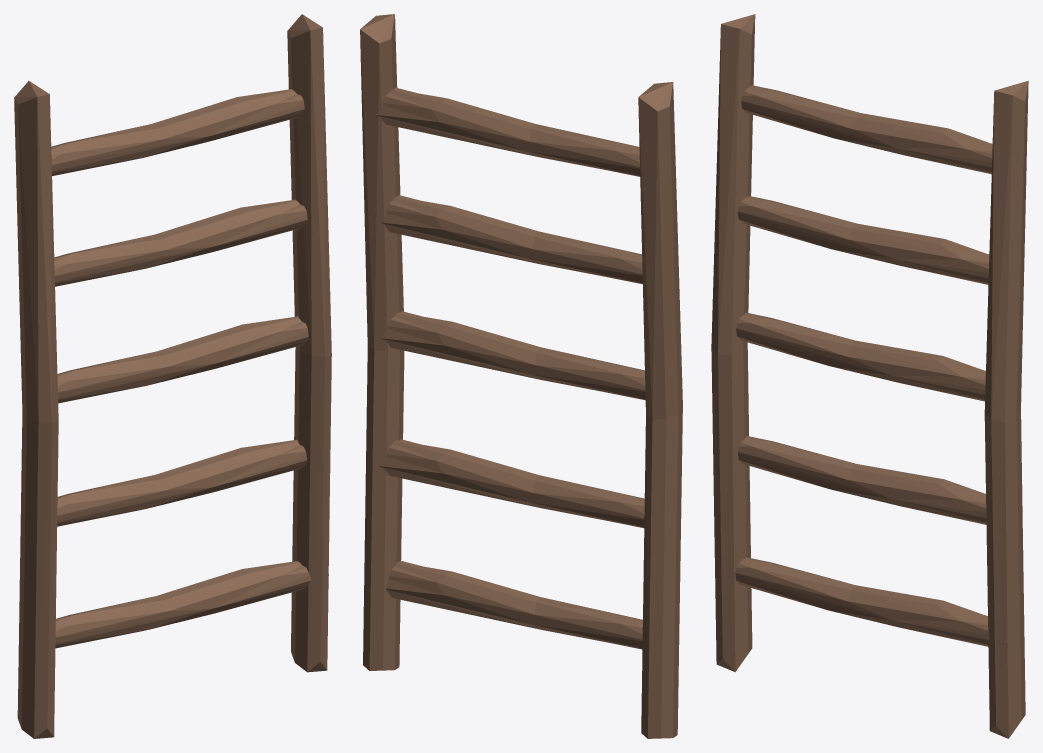
The model's file is 梯子_一楼到二楼.fbx.
3 views of the same model, side by side, from view 1: azimuth 30°, elevation 25°; view 2: azimuth 150°, elevation 25°; view 3: azimuth 330°, elevation 25° (orthographic).
Parts seen in each view (by area): view 1: 梯子; view 2: 梯子; view 3: 梯子.
Boxes of the visible parts, x1,y1,x2,y2 form: 梯子: [14, 14, 331, 738]; 梯子: [360, 14, 682, 738]; 梯子: [711, 14, 1028, 738].
Bounding box in the file's own units: 181 × 370 × 31.6.
